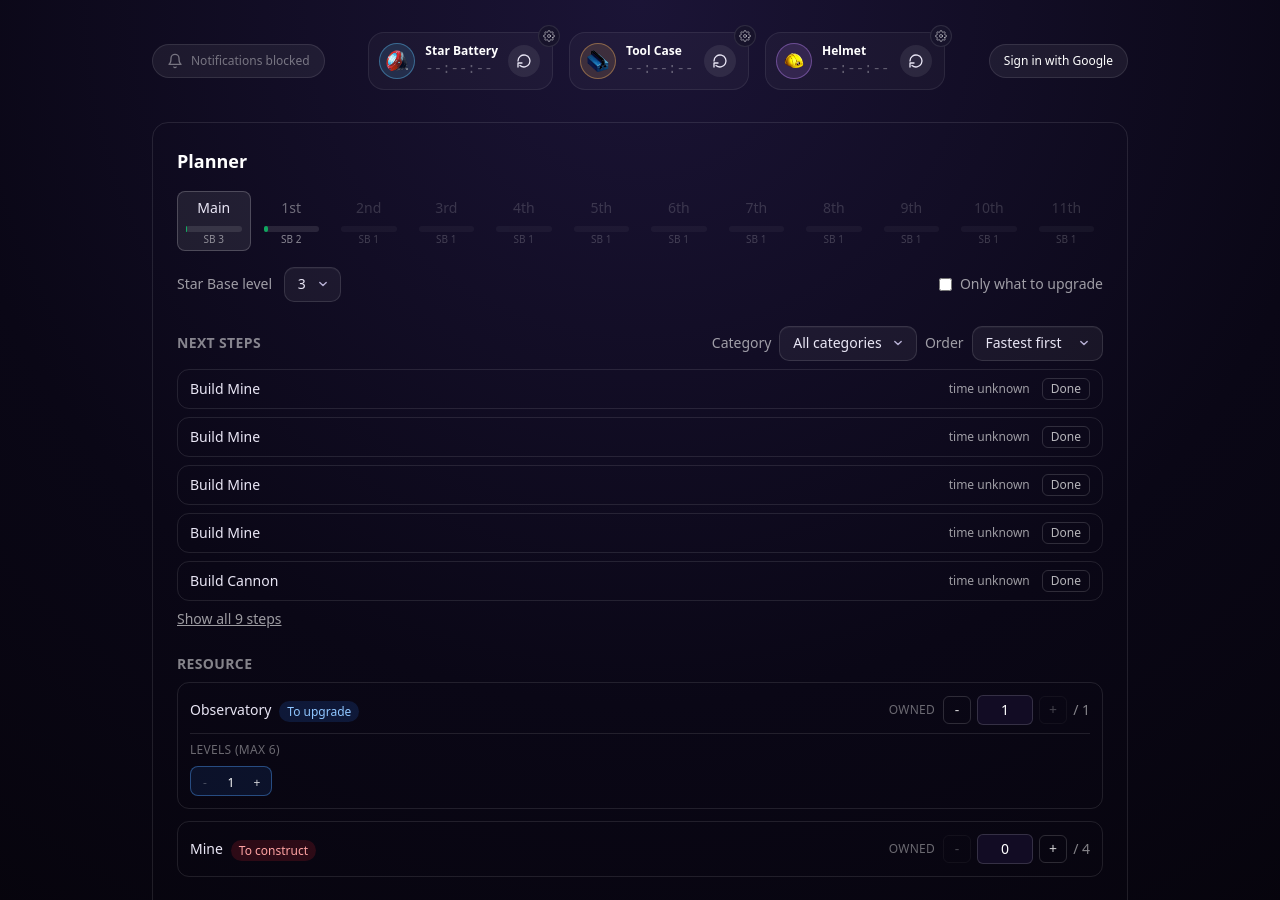
Test case: App › Planner › Observatory › keeps the data of a relocked Colony and shows it again once unlocked
The image size is (1280, 900).
Click the button named "Decrease Observatory owned" at (957, 710), box [943, 696, 971, 724]
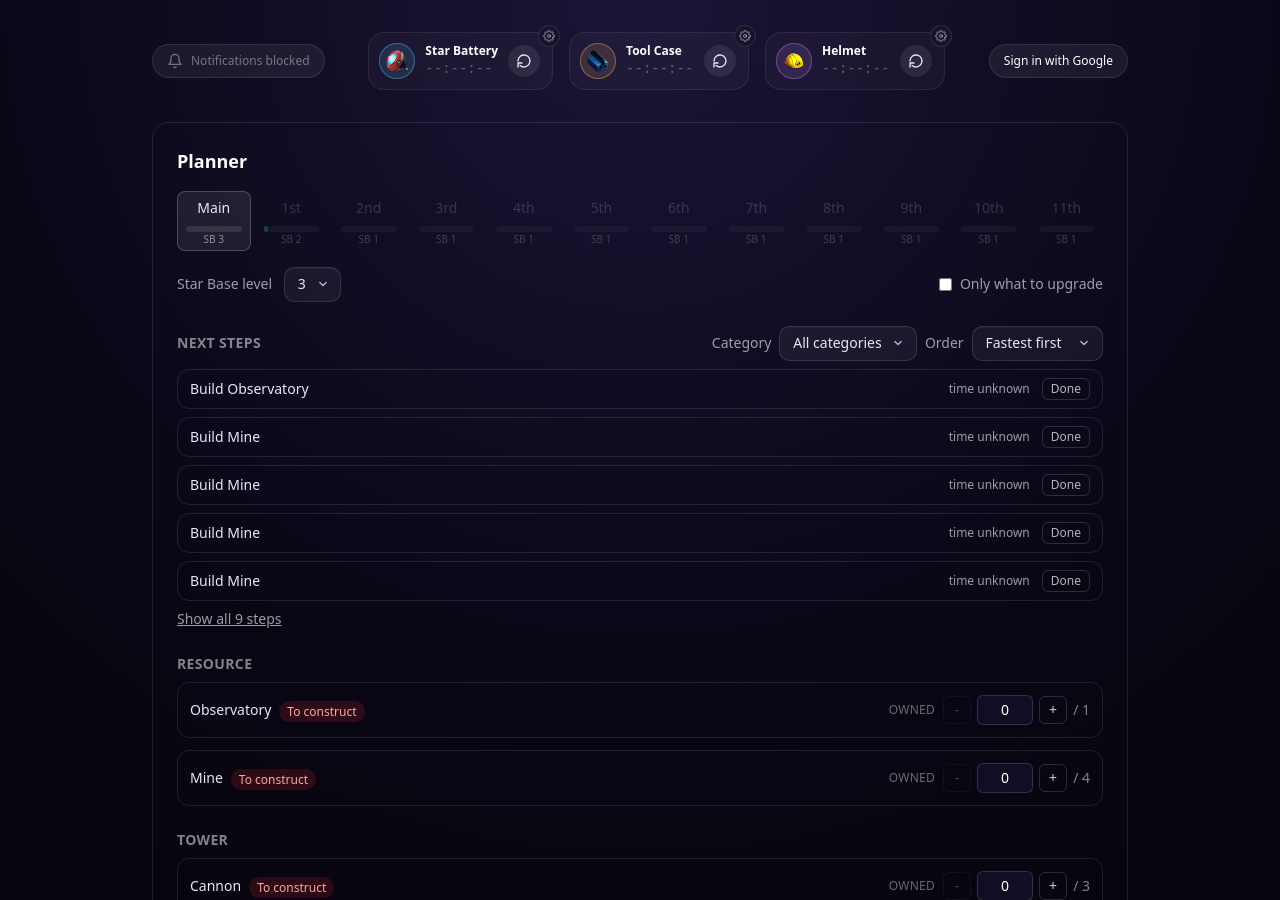
Check: the tab with aria-label "Colony 1" is disabled, box [264, 194, 319, 222]
Click the button named "Increase Observatory owned" at (1053, 710), box [1039, 696, 1067, 724]
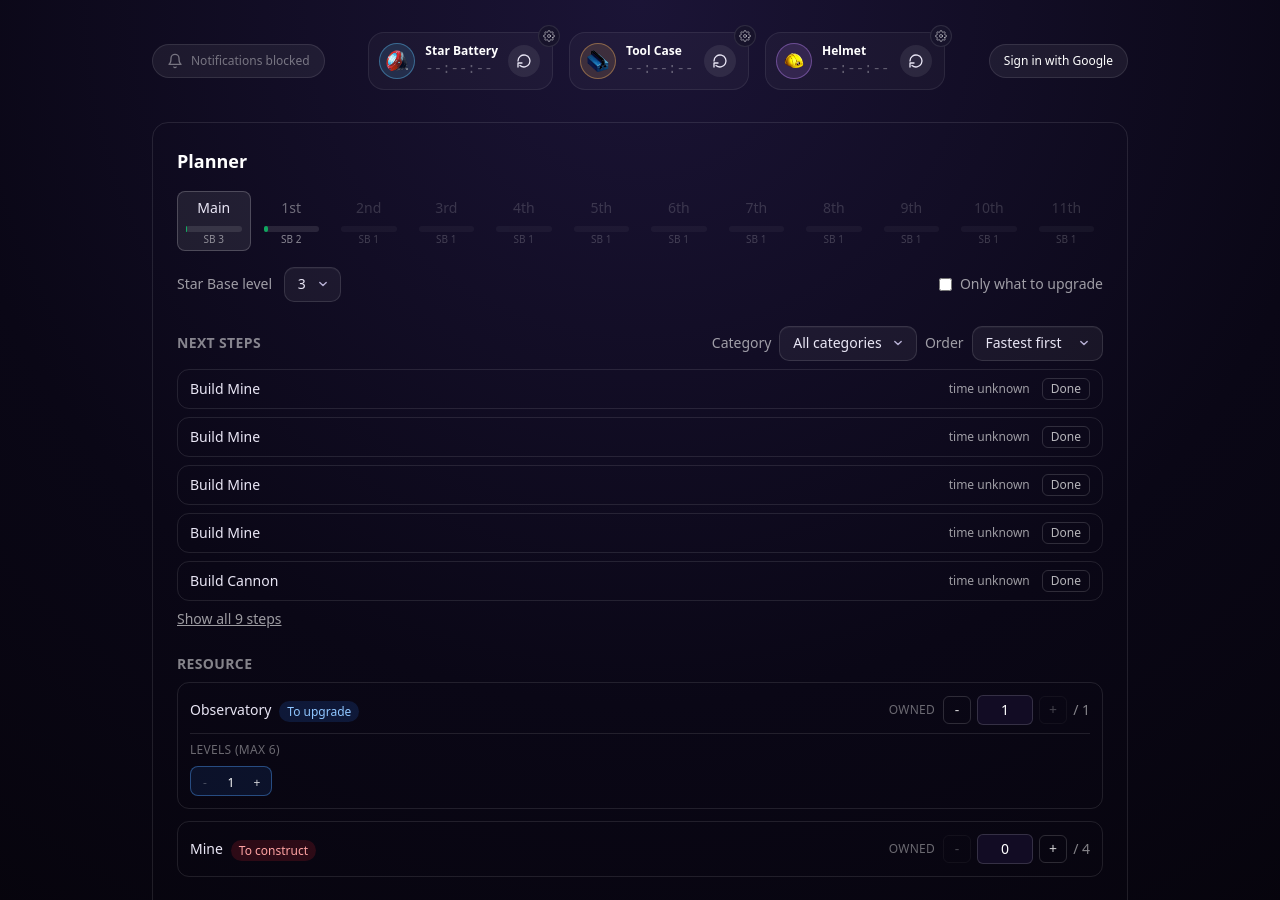
Click the button named "Increase Observatory 1 level" at (257, 783), box [247, 773, 267, 793]
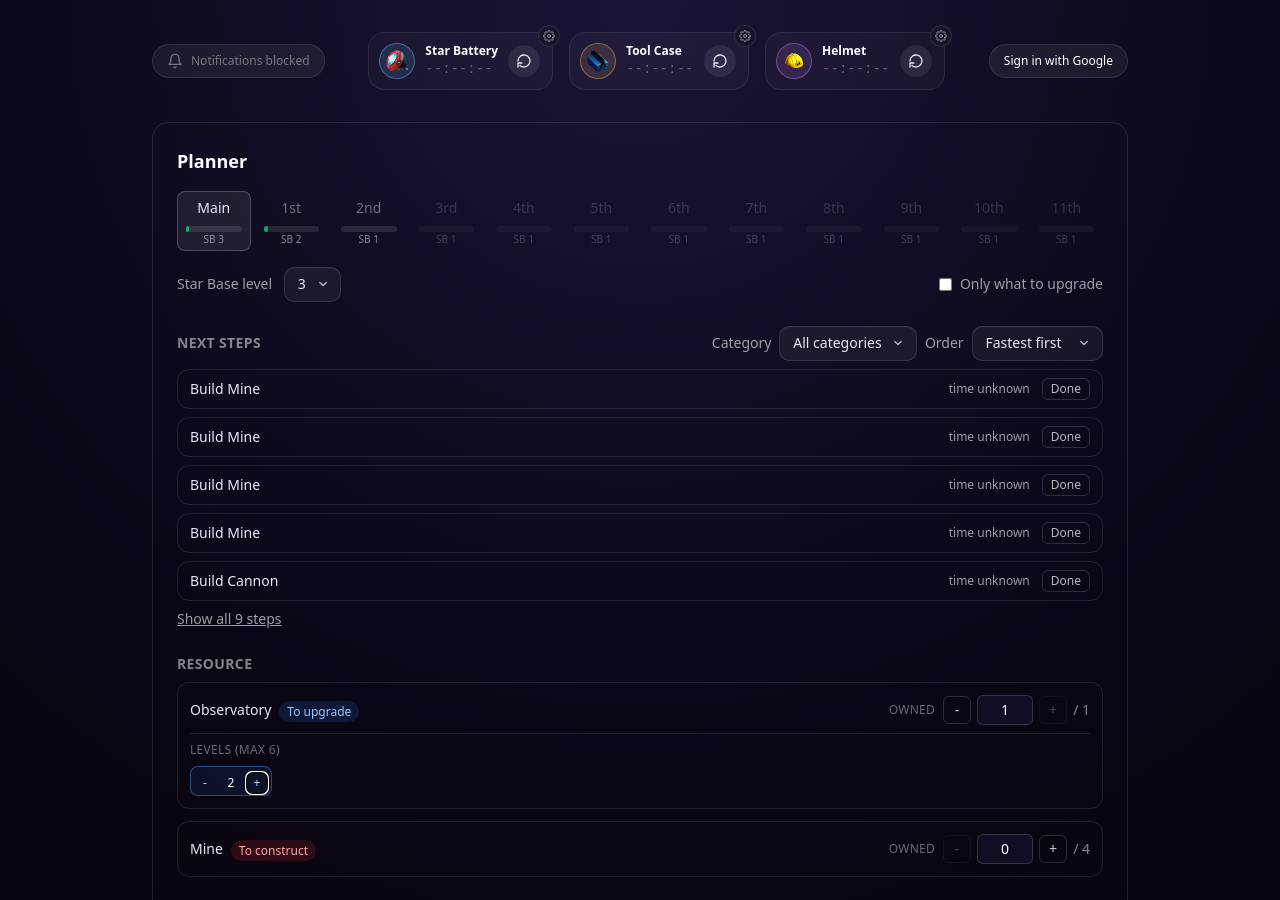
Click the tab with aria-label "Colony 1" at (291, 208), box [264, 194, 319, 222]
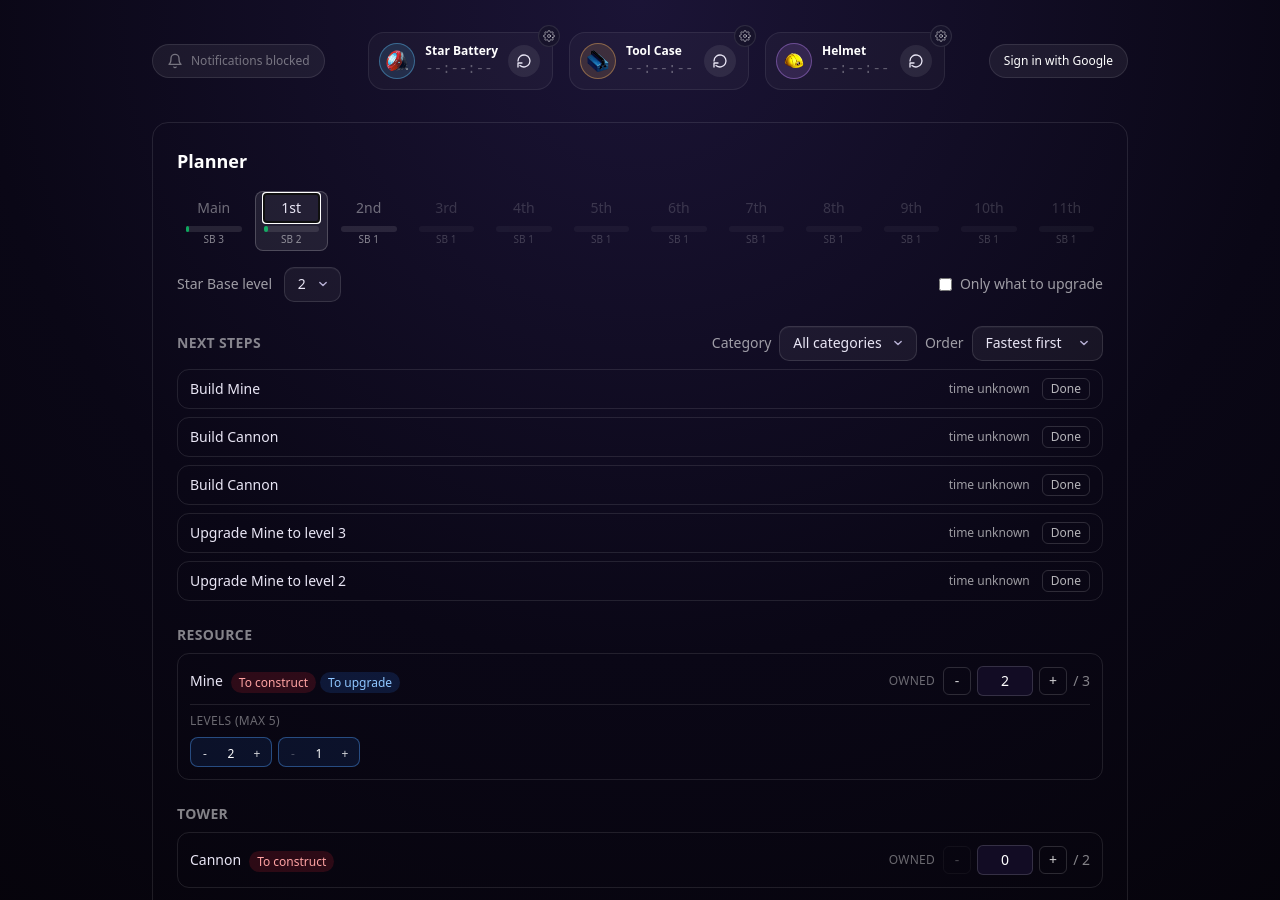
Check: the dropdown labelled "Star Base level" shows "2", box [284, 267, 342, 302]
